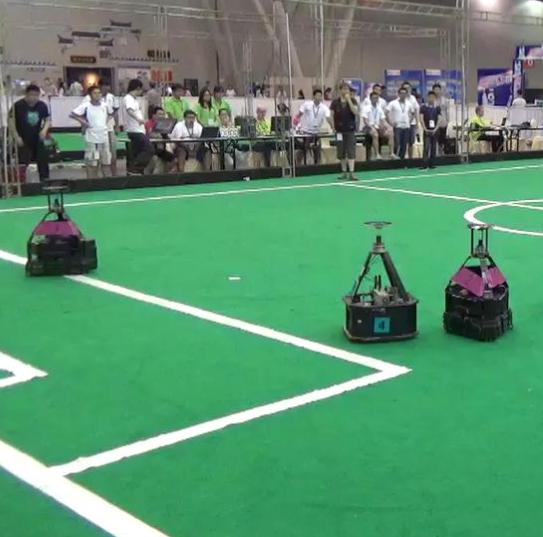robot: (335, 219, 423, 344), (439, 221, 520, 344), (20, 186, 100, 278)
